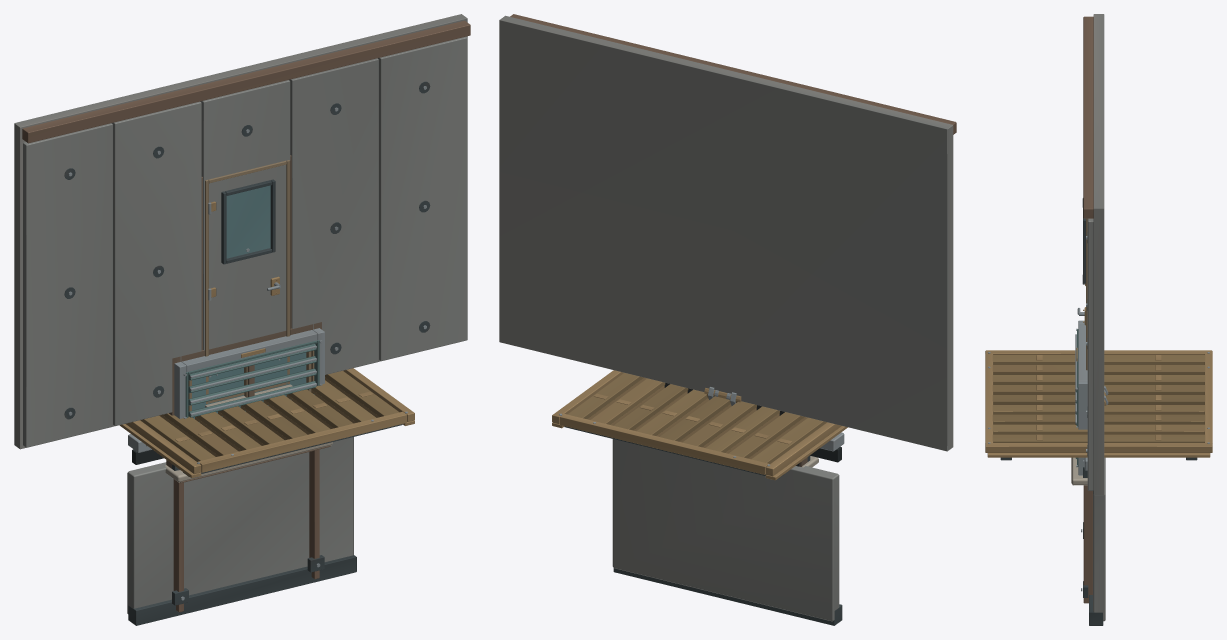
The model's file is architecture-rc27.glb.
3 renders of one model, left to right at view 1: azimuth 30°, elevation 25°; view 2: azimuth 150°, elevation 25°; view 3: azimuth 270°, elevation 25°, orthographic. The views are drawn at different scales.
Visible parts, largest first — view 1: AnnexPitLining | Concrete pit and roof panels, RoofEdge | Concrete pit and roof panels, PhaseDeckDay | Amber galvanized bridge tread, AnnexPitLining | Dulled oxide at steel joints, PhaseDeckDay | Tarnished brass, BoilerLouvre | Galvanized zinc, RoofEdge | Oil-stained cast iron, BoilerLouvre | Faded petrol enamel, ArchiveDoor | Old wired glass, RoofEdge | Dulled oxide at steel joints, ArchiveDoor | Dark ochre window paint, ArchiveWindow | Aged painted hardwood (+5 smaller); view 2: AnnexPitLining | Concrete pit and roof panels, RoofEdge | Concrete pit and roof panels, PhaseDeckDay | Amber galvanized bridge tread, PhaseDeckDay | Tarnished brass, AnnexPitLining | Dulled oxide at steel joints, RoofEdge | Oil-stained cast iron; view 3: PhaseDeckDay | Amber galvanized bridge tread, AnnexPitLining | Concrete pit and roof panels, PhaseDeckDay | Tarnished brass, AnnexPitLining | Dulled oxide at steel joints, RoofEdge | Concrete pit and roof panels, BoilerLouvre | Galvanized zinc, RoofEdge | Dulled oxide at steel joints, RoofEdge | Oil-stained cast iron.
Part boxes in pixels (box(x1,y1,x2,y2)): AnnexPitLining | Concrete pit and roof panels: box(14, 14, 467, 449); RoofEdge | Concrete pit and roof panels: box(127, 437, 353, 613); PhaseDeckDay | Amber galvanized bridge tread: box(140, 370, 399, 462); AnnexPitLining | Dulled oxide at steel joints: box(22, 20, 470, 143); PhaseDeckDay | Tarnished brass: box(119, 368, 414, 477); BoilerLouvre | Galvanized zinc: box(174, 328, 324, 470); RoofEdge | Oil-stained cast iron: box(128, 464, 356, 625); BoilerLouvre | Faded petrol enamel: box(185, 340, 319, 422); ArchiveDoor | Old wired glass: box(226, 185, 270, 258); RoofEdge | Dulled oxide at steel joints: box(173, 449, 319, 612); ArchiveDoor | Dark ochre window paint: box(205, 160, 290, 403); ArchiveWindow | Aged painted hardwood: box(166, 322, 330, 483); AnnexPitLining | Concrete pit and roof panels: box(499, 15, 953, 451); RoofEdge | Concrete pit and roof panels: box(612, 439, 839, 621); PhaseDeckDay | Amber galvanized bridge tread: box(567, 373, 826, 464); PhaseDeckDay | Tarnished brass: box(552, 370, 847, 480); AnnexPitLining | Dulled oxide at steel joints: box(510, 14, 956, 134); RoofEdge | Oil-stained cast iron: box(613, 455, 842, 625); PhaseDeckDay | Amber galvanized bridge tread: box(992, 355, 1205, 442); AnnexPitLining | Concrete pit and roof panels: box(1087, 14, 1104, 494); PhaseDeckDay | Tarnished brass: box(985, 350, 1212, 457); AnnexPitLining | Dulled oxide at steel joints: box(1083, 16, 1093, 218); RoofEdge | Concrete pit and roof panels: box(1093, 457, 1105, 621); BoilerLouvre | Galvanized zinc: box(1075, 320, 1087, 475); RoofEdge | Dulled oxide at steel joints: box(1083, 485, 1092, 603); RoofEdge | Oil-stained cast iron: box(1083, 467, 1103, 625).
Bounding box in the file's own units: 4.8 × 5.37 × 2.37.
